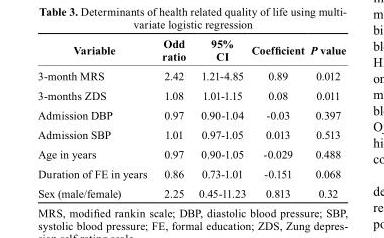table: (37, 36, 345, 199)
table column: (37, 36, 153, 199), (248, 36, 306, 199), (191, 36, 248, 199), (306, 36, 345, 199), (153, 36, 191, 199)
table column header: (37, 36, 345, 65)
table row: (37, 36, 345, 65), (37, 65, 345, 85), (37, 104, 345, 124), (37, 143, 345, 163), (37, 163, 345, 183), (37, 85, 345, 104), (37, 124, 345, 143), (37, 183, 345, 199)
